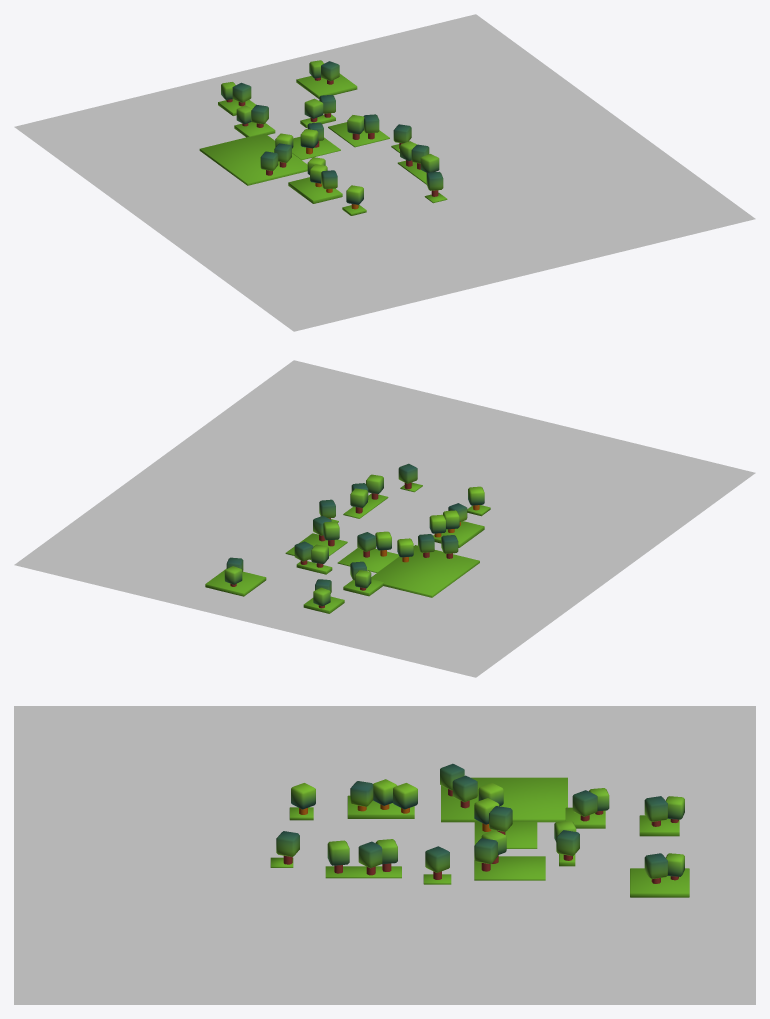
Rendered from ground.fbx.
3 renders of one model, top to bottom at view 1: azimuth 30°, elevation 25°; view 2: azimuth 150°, elevation 25°; view 3: azimuth 270°, elevation 25°, orthographic. The views are drawn at different scales.
Visible parts, largest first — view 1: Zemin.008, Cube.179, Cube.191, Cube.176, Cube.177, Cube.178; view 2: Zemin.008, Cube.179, Cube.191, Cube.178, Cube.176; view 3: Zemin.008, Cube.179, Cube.177, Cube.191, Cube.178, Cube.176, Cube.057, Cube.181, Cube.173, Cube.162, Cube.186, Cube.163 (+12 smaller).
Part boxes in pixels (x1,y1,x2,y2): Zemin.008: (14, 14, 755, 331); Cube.179: (199, 133, 307, 185); Cube.191: (296, 73, 357, 98); Cube.176: (288, 177, 342, 203); Cube.177: (328, 122, 389, 147); Cube.178: (292, 136, 340, 159); Zemin.008: (14, 360, 755, 677); Cube.179: (371, 545, 479, 597); Cube.191: (205, 568, 266, 596); Cube.178: (337, 548, 399, 572); Cube.176: (433, 521, 484, 547); Zemin.008: (14, 706, 755, 1004); Cube.179: (441, 777, 567, 822); Cube.177: (474, 856, 545, 880); Cube.191: (630, 868, 689, 897); Cube.178: (474, 822, 537, 848); Cube.176: (347, 795, 414, 818); Cube.057: (325, 866, 401, 878); Cube.181: (639, 815, 679, 836); Cube.173: (452, 775, 477, 808); Cube.162: (358, 841, 382, 875); Cube.186: (572, 790, 597, 821); Cube.163: (425, 846, 449, 879).
Bounding box in the file's own units: 23117 × 1155 × 24262.
